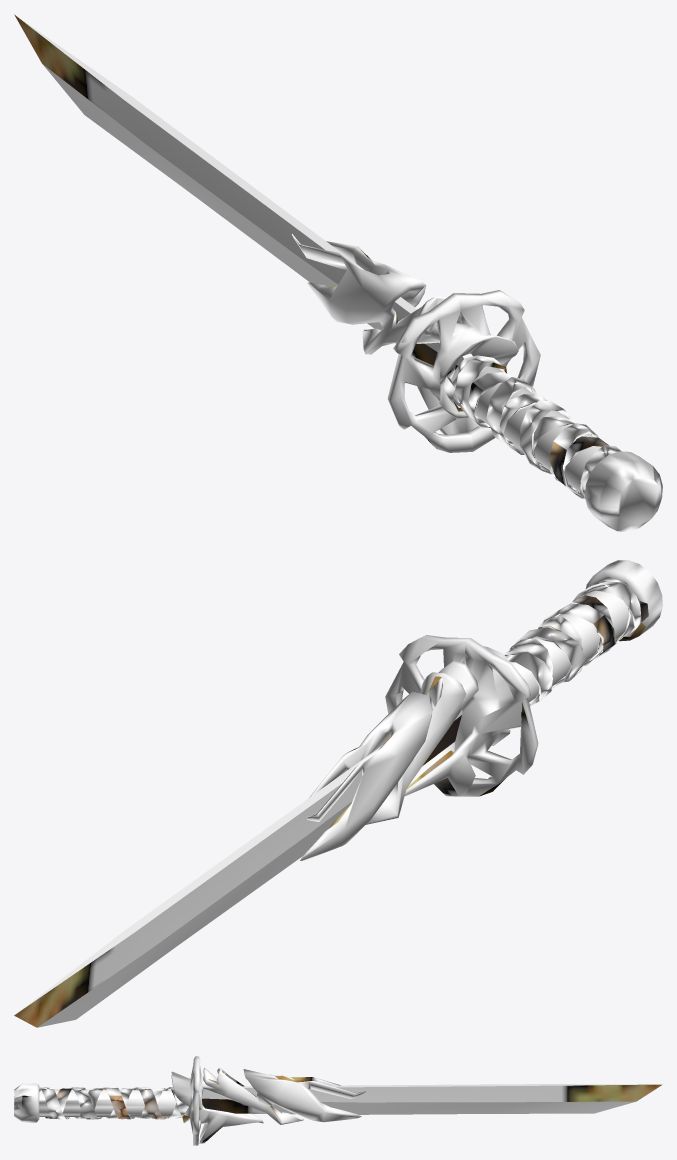
Rendered from split_tenrai_secondary.obj.
The picture shows the model from 3 angles, top to bottom: view 1: azimuth 30°, elevation 25°; view 2: azimuth 150°, elevation 25°; view 3: azimuth 270°, elevation 25°; orthographic projection. The views are drawn at different scales.
Visible parts, largest first — view 1: TenraiSecondary; view 2: TenraiSecondary; view 3: TenraiSecondary.
Part boxes in pixels (x1,y1,x2,y2): TenraiSecondary: (14,14,662,531); TenraiSecondary: (14,560,662,1027); TenraiSecondary: (14,1056,662,1145).
Bounding box in the file's own units: 0.4041 × 0.4078 × 2.91.
